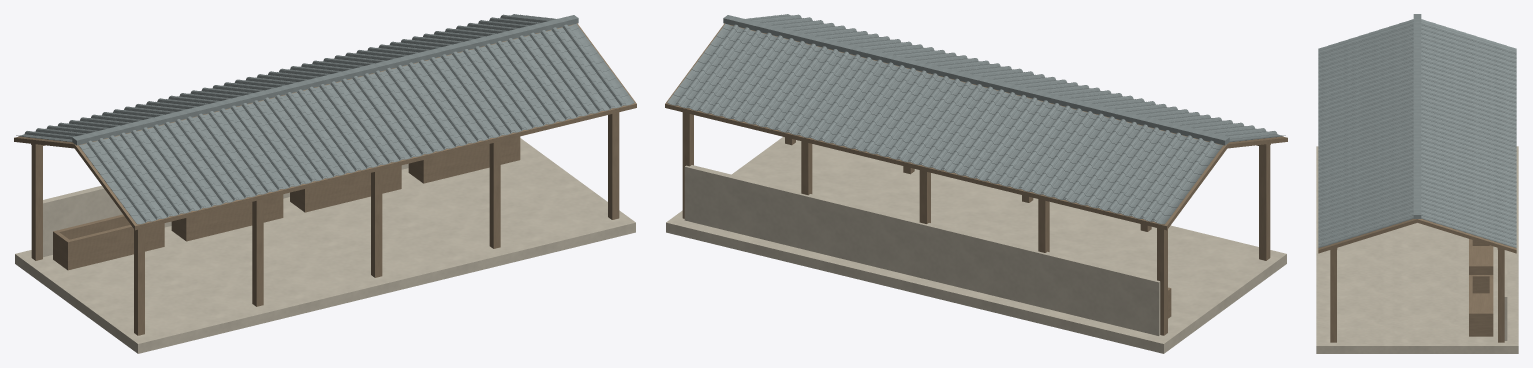
The picture shows the model from 3 angles, left to right: view 1: azimuth 30°, elevation 25°; view 2: azimuth 150°, elevation 25°; view 3: azimuth 270°, elevation 25°; orthographic projection. The views are drawn at different scales.
Visible parts, largest first — view 1: B_shelter_tile_shells, B_earth_platform, B_shelter_ridge_cap_C, B_shelter_roof_board, B_hollow_trough_0, B_rear_wall, B_hollow_trough_3, B_hollow_trough_1, B_hollow_trough_2, B_post_0_2.2399999999999998, B_post_1_-2.2399999999999998, B_post_2_-2.2399999999999998 (+3 smaller); view 2: B_shelter_tile_shells, B_earth_platform, B_rear_wall, B_shelter_ridge_cap_C, B_shelter_roof_board.001, B_post_0_-2.2399999999999998, B_post_0_2.2399999999999998, B_post_4_2.2399999999999998, B_post_1_2.2399999999999998, B_post_2_2.2399999999999998, B_post_3_2.2399999999999998; view 3: B_shelter_tile_shells, B_earth_platform, B_shelter_ridge_cap_C, B_hollow_trough_3, B_hollow_trough_2, B_post_4_-2.2399999999999998, B_post_4_2.2399999999999998, B_shelter_roof_board, B_shelter_roof_board.001, B_rear_wall.
Part boxes in pixels (x1=…): B_shelter_tile_shells: x1=16, y1=14, x2=634, y2=224; B_earth_platform: x1=15, y1=138, x2=635, y2=353; B_shelter_ridge_cap_C: x1=72, y1=15, x2=578, y2=145; B_shelter_roof_board: x1=74, y1=23, x2=636, y2=230; B_hollow_trough_0: x1=53, y1=214, x2=164, y2=270; B_rear_wall: x1=43, y1=163, x2=408, y2=257; B_hollow_trough_3: x1=408, y1=136, x2=520, y2=183; B_hollow_trough_1: x1=171, y1=194, x2=283, y2=241; B_hollow_trough_2: x1=290, y1=165, x2=401, y2=212; B_post_0_2.2399999999999998: x1=31, y1=145, x2=42, y2=260; B_post_1_-2.2399999999999998: x1=252, y1=199, x2=263, y2=306; B_post_2_-2.2399999999999998: x1=371, y1=170, x2=382, y2=277; B_shelter_tile_shells: x1=667, y1=14, x2=1285, y2=224; B_earth_platform: x1=666, y1=137, x2=1286, y2=353; B_rear_wall: x1=684, y1=165, x2=1160, y2=335; B_shelter_ridge_cap_C: x1=723, y1=15, x2=1229, y2=145; B_shelter_roof_board.001: x1=665, y1=23, x2=1227, y2=230; B_post_0_-2.2399999999999998: x1=1259, y1=145, x2=1270, y2=260; B_post_0_2.2399999999999998: x1=1157, y1=228, x2=1167, y2=335; B_post_4_2.2399999999999998: x1=682, y1=112, x2=693, y2=218; B_post_1_2.2399999999999998: x1=1038, y1=199, x2=1049, y2=252; B_post_2_2.2399999999999998: x1=919, y1=170, x2=930, y2=223; B_post_3_2.2399999999999998: x1=801, y1=141, x2=812, y2=195; B_shelter_tile_shells: x1=1318, y1=19, x2=1516, y2=247; B_earth_platform: x1=1316, y1=146, x2=1518, y2=353; B_shelter_ridge_cap_C: x1=1413, y1=14, x2=1421, y2=218; B_hollow_trough_3: x1=1469, y1=275, x2=1493, y2=336; B_hollow_trough_2: x1=1469, y1=239, x2=1493, y2=274; B_post_4_-2.2399999999999998: x1=1330, y1=249, x2=1336, y2=342; B_post_4_2.2399999999999998: x1=1498, y1=249, x2=1504, y2=342; B_shelter_roof_board: x1=1318, y1=219, x2=1417, y2=253; B_shelter_roof_board.001: x1=1417, y1=219, x2=1516, y2=253; B_rear_wall: x1=1504, y1=250, x2=1507, y2=340.
Bounding box in the file's own units: 12.7 × 4.12 × 5.4.
Materials: 3 (3 with a texture image).
